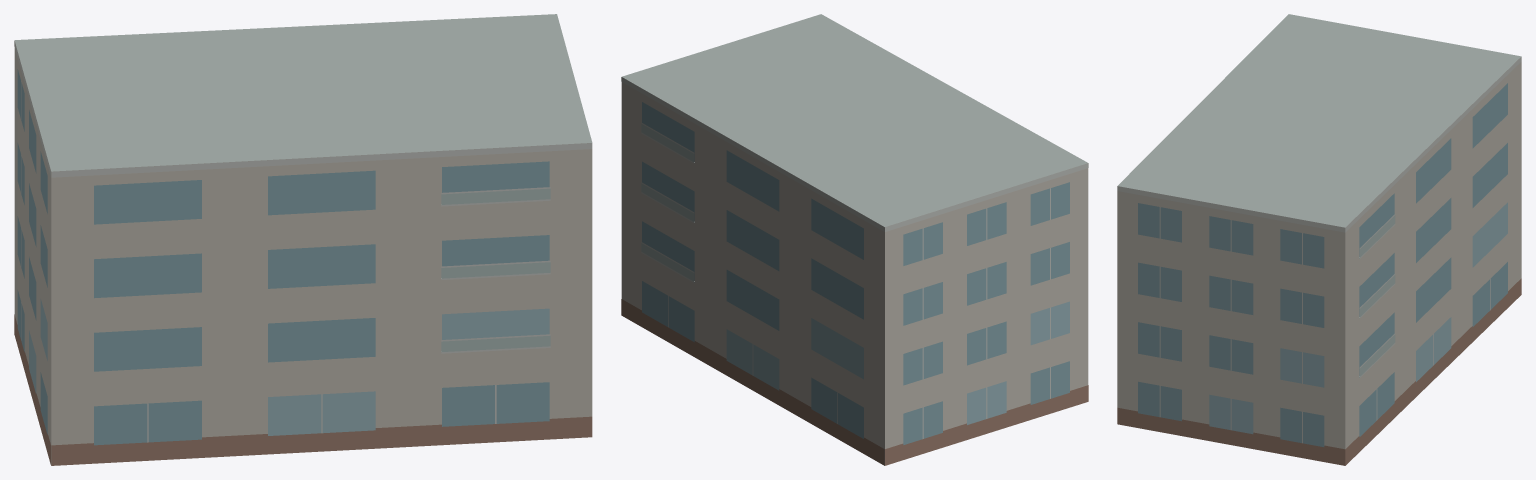
File: survey-upis-32894139.glb
3 renders of one model, left to right at view 1: azimuth 30°, elevation 25°; view 2: azimuth 150°, elevation 25°; view 3: azimuth 270°, elevation 25°, orthographic. The views are drawn at different scales.
Visible parts, largest first — view 1: survey-upis-32894139.tmp; view 2: survey-upis-32894139.tmp; view 3: survey-upis-32894139.tmp.
Boxes of the visible parts, x1=… form: survey-upis-32894139.tmp: x1=14, y1=14, x2=592, y2=465; survey-upis-32894139.tmp: x1=621, y1=14, x2=1088, y2=465; survey-upis-32894139.tmp: x1=1117, y1=14, x2=1521, y2=465.
Bounding box in the file's own units: 22.41 × 11.65 × 17.93.
